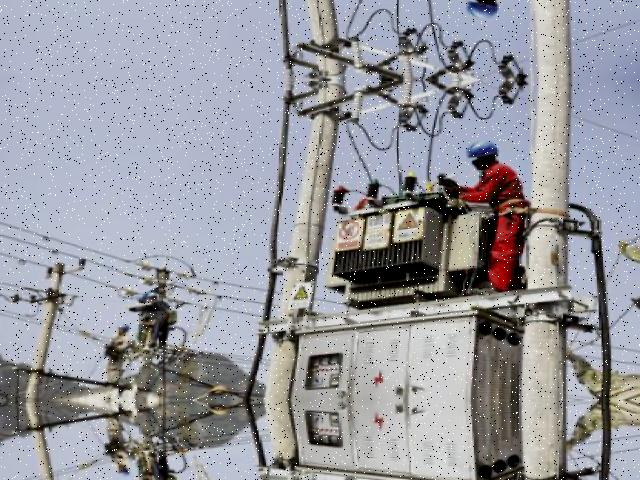Helmet: (463, 136, 504, 164)
